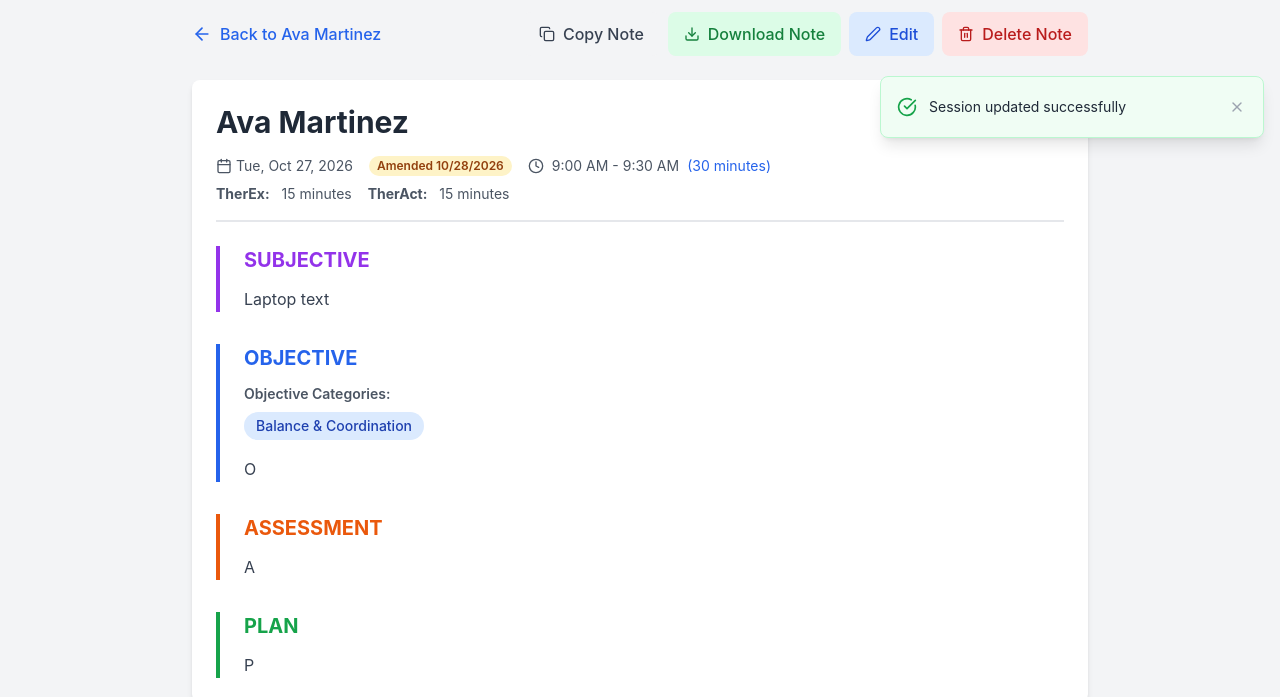
Edit starts from the note as it is now, not as it was when the page opened
The image size is (1280, 697).
Check: the text "Laptop text" is shown, box [244, 289, 329, 309]
Click the button "Edit" at {"x": 892, "y": 34}, box [849, 12, 934, 56]
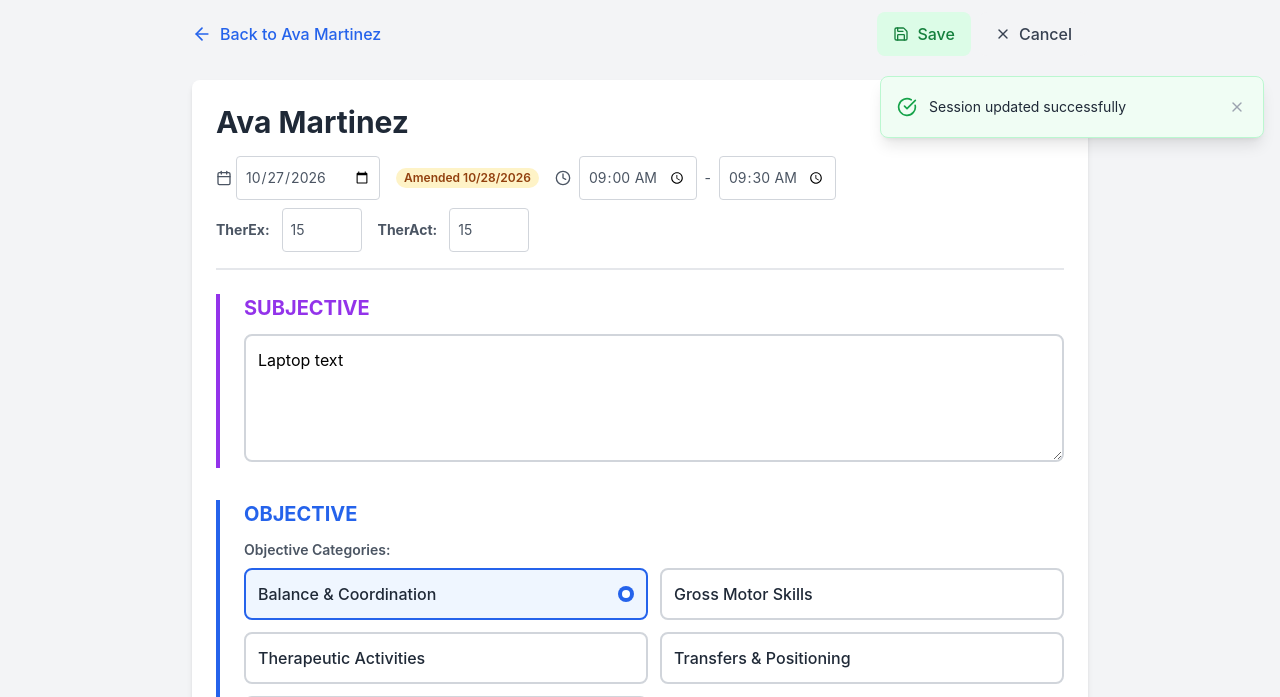
Check: the text box showing "Laptop text" is shown, box [244, 334, 1064, 462]
